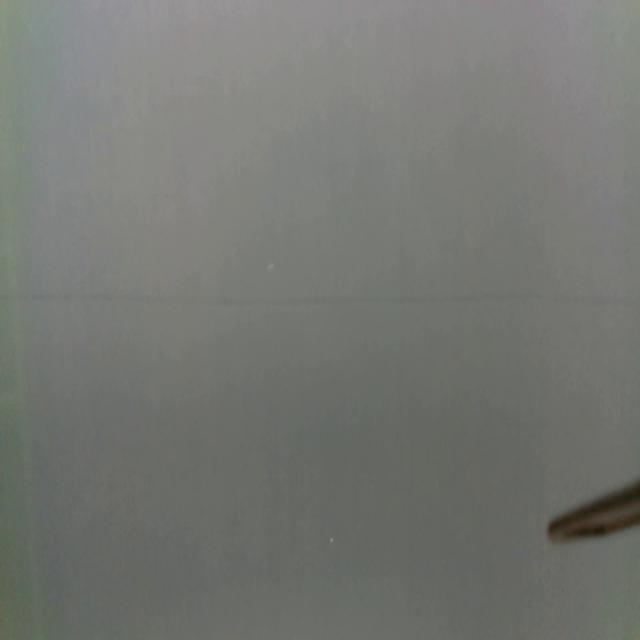color bleeding: (0, 284, 640, 310)
